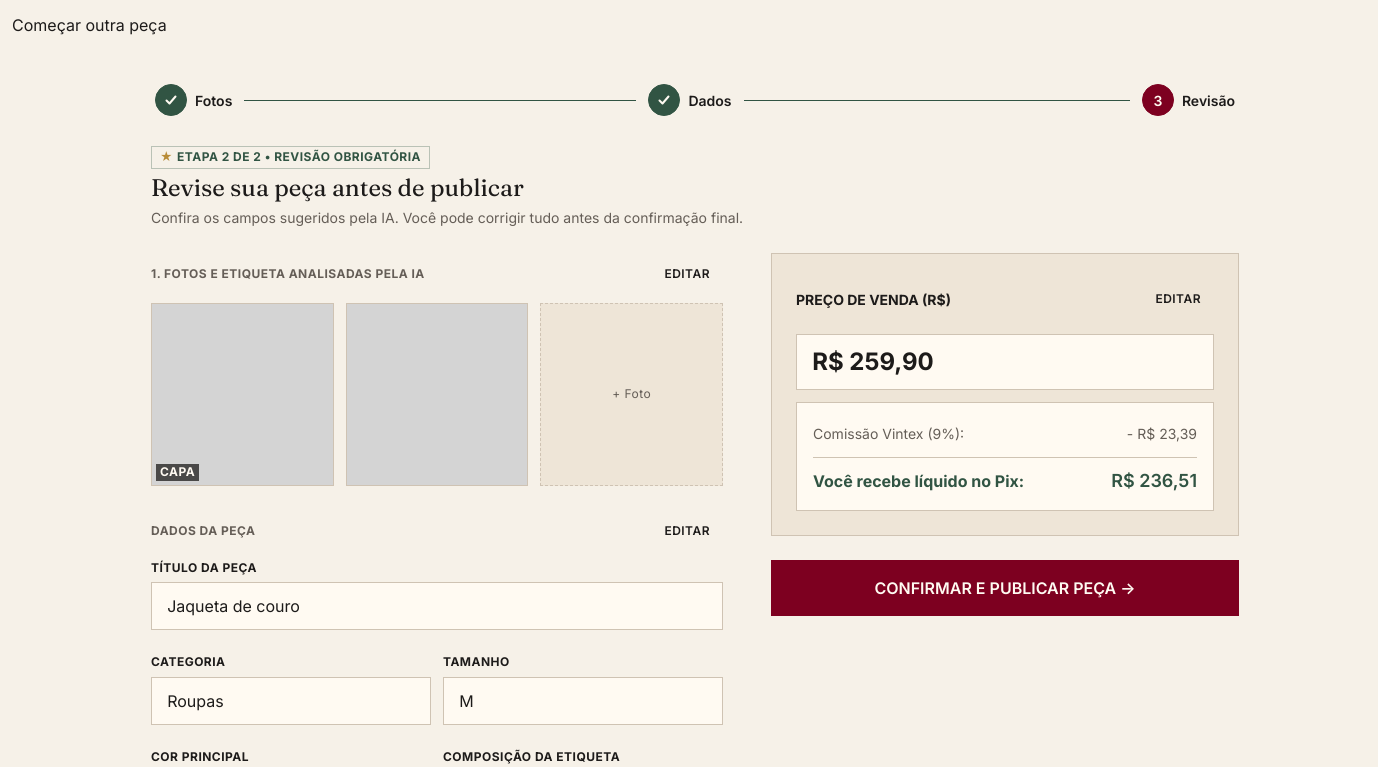
Scenario: Review › alinhado ao frame ajustado (T14) › mostra o rótulo das fotos, a capa e o quadro "+ Foto", que leva às fotos
The image size is (1378, 767).
Expected: the text "Jaqueta de couro" is shown, [151,582,723,630]
Expected: the heading "1. Fotos e etiqueta analisadas pela IA" is shown, [151,266,425,283]
Click the button "+ Foto": (632, 394) [540,303,723,486]
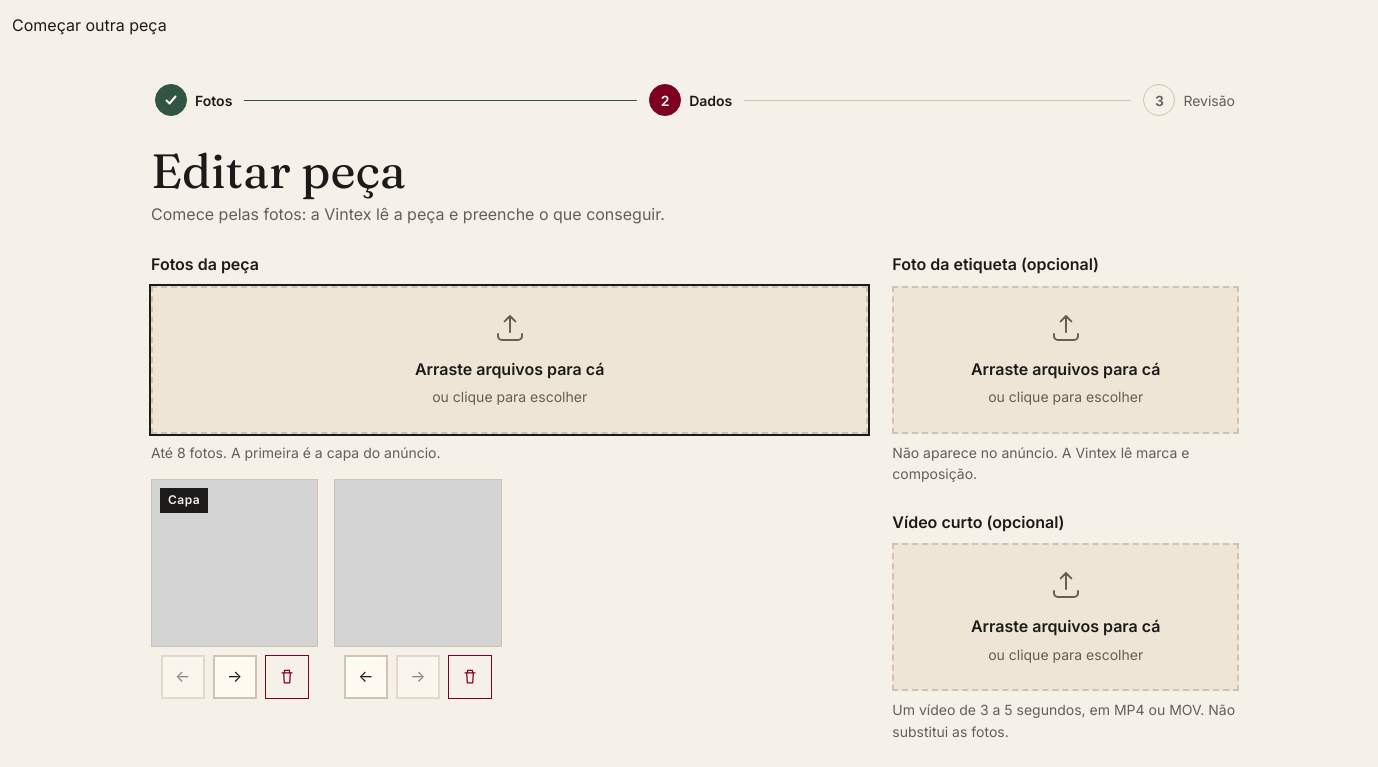
Expected: the element with id "secao-fotos" is shown, [151,251,868,743]
